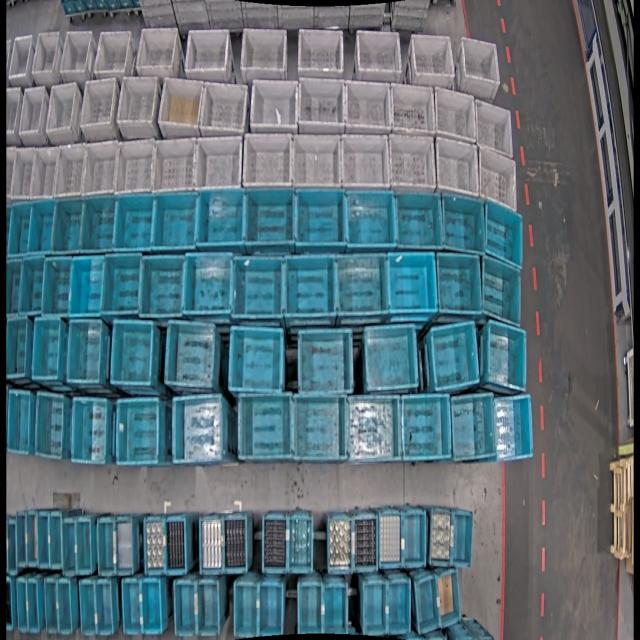Box: (296, 328, 354, 398), (228, 324, 284, 394), (364, 322, 419, 392), (345, 395, 399, 464), (284, 253, 339, 320), (240, 393, 294, 461), (172, 394, 224, 464), (335, 252, 389, 319), (430, 320, 480, 392), (400, 392, 451, 462), (294, 187, 348, 250), (293, 394, 343, 462), (166, 321, 215, 390), (388, 250, 439, 316), (234, 254, 286, 318), (452, 392, 499, 462), (183, 252, 233, 316), (435, 251, 483, 317), (345, 188, 395, 251), (246, 188, 298, 248), (197, 188, 247, 249), (395, 189, 444, 251), (390, 133, 438, 196), (440, 192, 487, 256), (340, 133, 389, 194), (475, 148, 520, 213), (112, 320, 156, 386), (118, 396, 160, 465), (493, 395, 536, 461), (154, 190, 201, 250), (488, 320, 526, 394), (482, 256, 521, 328), (139, 255, 184, 317), (433, 137, 478, 198), (250, 78, 299, 134), (298, 76, 348, 130), (292, 132, 341, 187), (195, 135, 243, 191), (485, 199, 523, 269), (198, 81, 248, 134), (243, 133, 292, 187), (70, 396, 110, 462), (343, 78, 391, 132), (390, 82, 438, 135), (102, 253, 142, 316), (434, 86, 478, 142), (134, 24, 178, 79), (115, 193, 156, 252), (153, 138, 197, 192), (66, 319, 103, 383), (158, 77, 204, 128), (114, 138, 155, 194), (476, 99, 514, 158), (92, 27, 134, 80), (71, 256, 106, 317), (82, 142, 120, 198), (82, 195, 118, 252), (34, 393, 65, 459), (53, 144, 89, 200), (298, 28, 344, 71), (240, 28, 287, 70), (116, 76, 157, 124), (461, 37, 502, 84), (29, 29, 64, 84), (32, 317, 62, 381), (52, 196, 85, 254), (357, 31, 402, 72), (185, 30, 228, 72), (411, 34, 455, 75), (28, 147, 62, 200), (80, 78, 116, 126), (44, 257, 73, 316), (4, 316, 30, 379), (286, 512, 312, 574), (27, 197, 55, 254), (46, 82, 77, 133), (402, 508, 428, 568), (330, 512, 355, 574), (429, 506, 454, 567), (6, 36, 34, 90), (352, 514, 378, 572), (20, 257, 46, 315), (378, 509, 403, 569), (6, 390, 29, 455), (264, 512, 288, 573), (60, 30, 94, 72), (416, 575, 440, 634), (450, 511, 474, 570), (18, 86, 46, 136), (224, 514, 248, 572), (438, 569, 461, 629), (201, 515, 224, 574), (259, 583, 284, 637), (387, 580, 411, 635), (323, 582, 348, 634), (7, 201, 31, 255), (362, 584, 386, 638), (233, 584, 256, 640), (197, 581, 220, 636), (144, 514, 165, 574), (165, 514, 186, 574), (10, 148, 35, 198), (174, 581, 196, 637), (122, 577, 142, 636), (298, 585, 322, 634), (141, 580, 161, 634), (94, 580, 113, 636), (116, 515, 134, 574), (96, 516, 114, 574), (78, 579, 96, 635), (61, 518, 77, 576), (75, 515, 90, 573), (58, 578, 73, 635), (36, 509, 50, 568), (48, 510, 62, 568), (24, 510, 38, 567), (44, 578, 58, 634), (25, 578, 39, 634), (14, 511, 27, 569), (16, 578, 29, 632), (7, 87, 20, 135), (7, 519, 18, 575), (7, 146, 16, 199), (6, 578, 13, 631)
